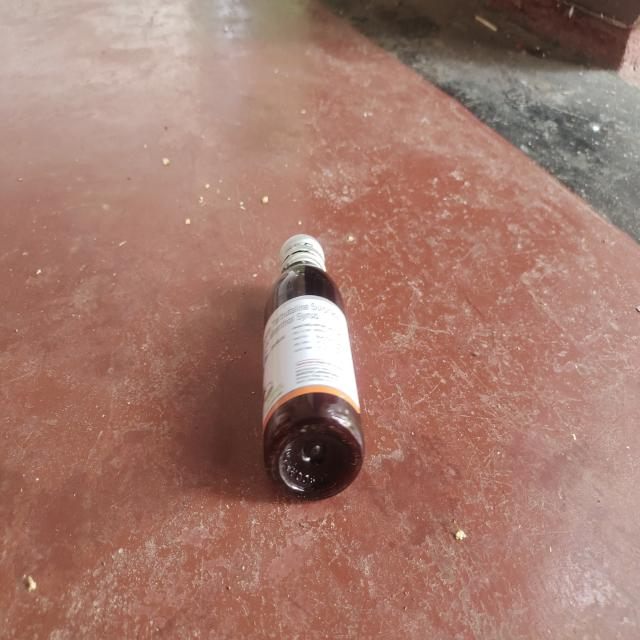plastic: (260, 232, 374, 500)
